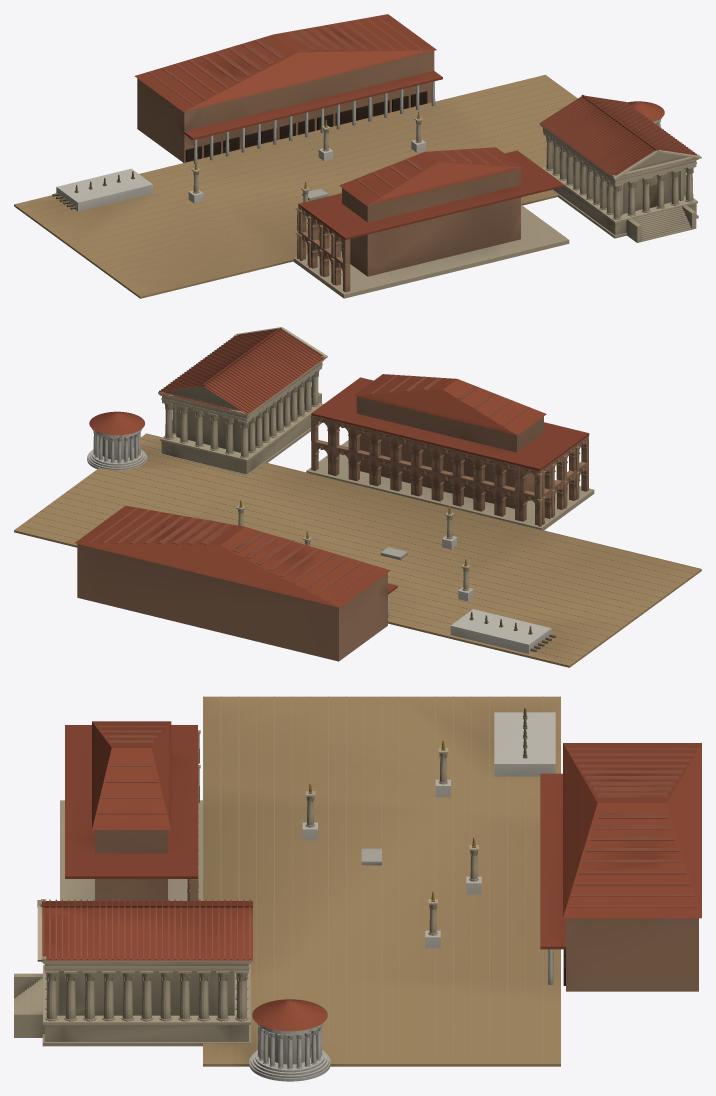
The model's file is roman-forum-republic.glb.
3 views of the same model, one above another, from view 1: azimuth 30°, elevation 25°; view 2: azimuth 150°, elevation 25°; view 3: azimuth 270°, elevation 25° (orthographic). The views are drawn at different scales.
Parts seen in each view (by area): view 1: p0_paving, p2_roofs, p1_basilicas; view 2: p0_paving, p1_basilicas, p2_roofs; view 3: p0_paving, p2_roofs, p1_basilicas.
Boxes of the visible parts, box(x1,y1,x2,y2) form: p0_paving: box(14, 74, 698, 298); p2_roofs: box(134, 14, 701, 239); p1_basilicas: box(52, 51, 696, 292); p0_paving: box(14, 393, 701, 667); p1_basilicas: box(77, 367, 588, 661); p2_roofs: box(74, 327, 589, 607); p0_paving: box(14, 696, 560, 1081); p2_roofs: box(37, 721, 701, 1034); p1_basilicas: box(45, 708, 698, 1069).
Bounding box in the file's own units: 177 × 29.27 × 135.
